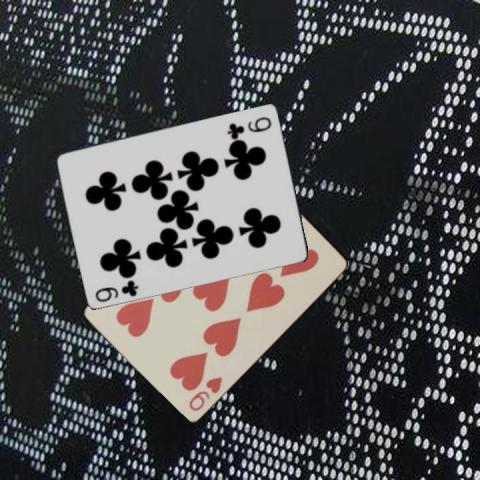9c: (92, 277, 141, 303), (224, 114, 273, 138)
9h: (185, 373, 225, 413)
